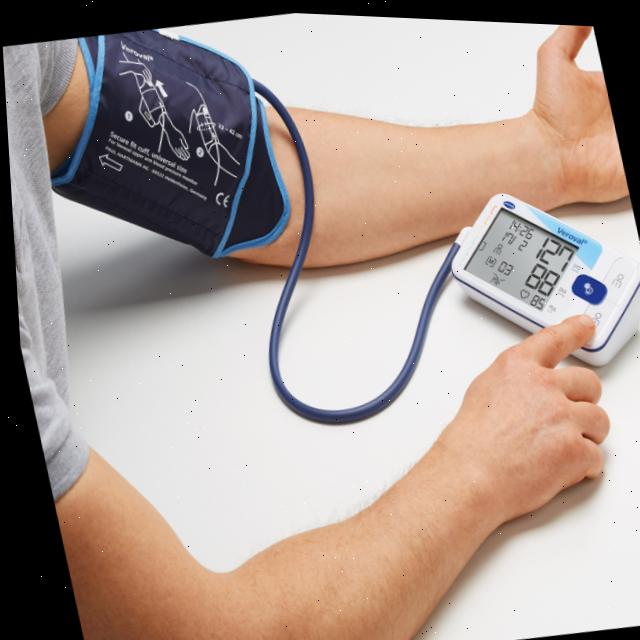dia: (514, 253, 560, 295)
pul: (517, 283, 548, 309)
ssd: (460, 196, 580, 312)
sys: (524, 225, 574, 271)
